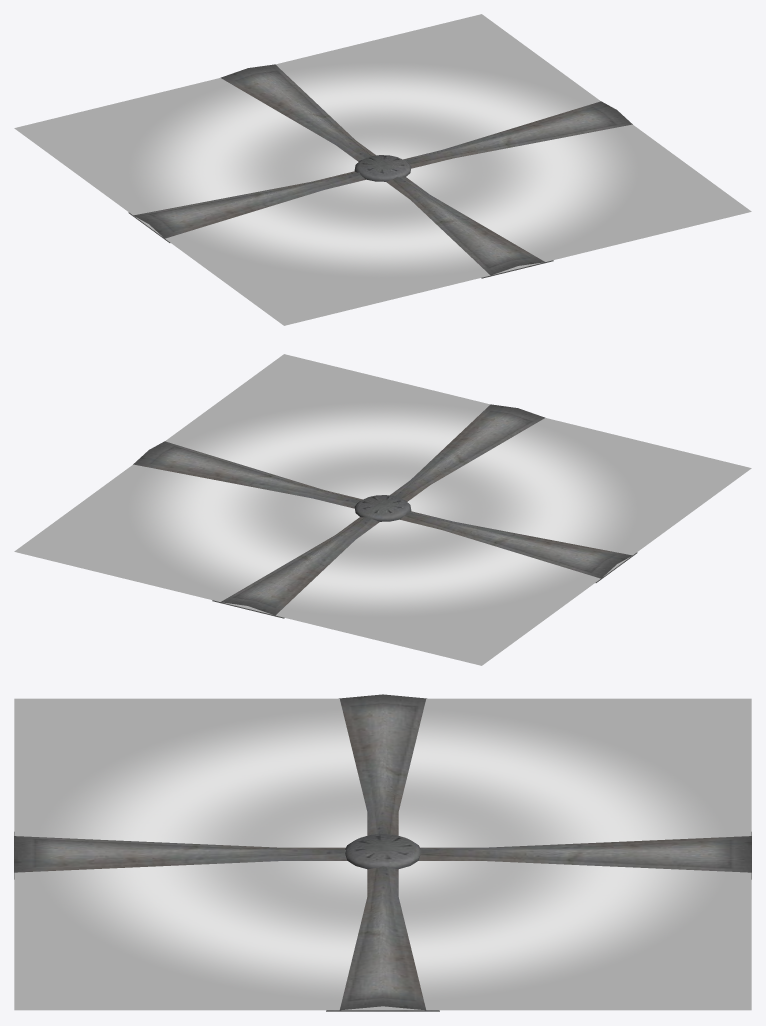
Rendered from Hover_All_Rotor.obj.
The picture shows the model from 3 angles, top to bottom: view 1: azimuth 30°, elevation 25°; view 2: azimuth 150°, elevation 25°; view 3: azimuth 270°, elevation 25°; orthographic projection. The views are drawn at different scales.
Visible parts, largest first — view 1: rotor_lowpoly; view 2: rotor_lowpoly; view 3: rotor_lowpoly.
Boxes of the visible parts, left/top/right/bottom form: rotor_lowpoly: left=14, top=14, right=751, bottom=325; rotor_lowpoly: left=14, top=354, right=751, bottom=665; rotor_lowpoly: left=14, top=694, right=751, bottom=1011.
Size of the model in its own units: 93.65 by 1.96 by 93.65.
